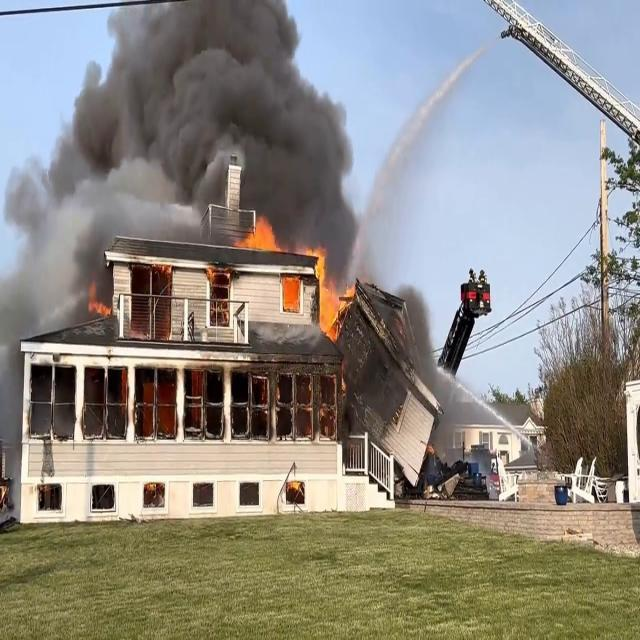Fire: (316, 254, 358, 338), (239, 208, 280, 254)
Smoke: (1, 1, 366, 277)
